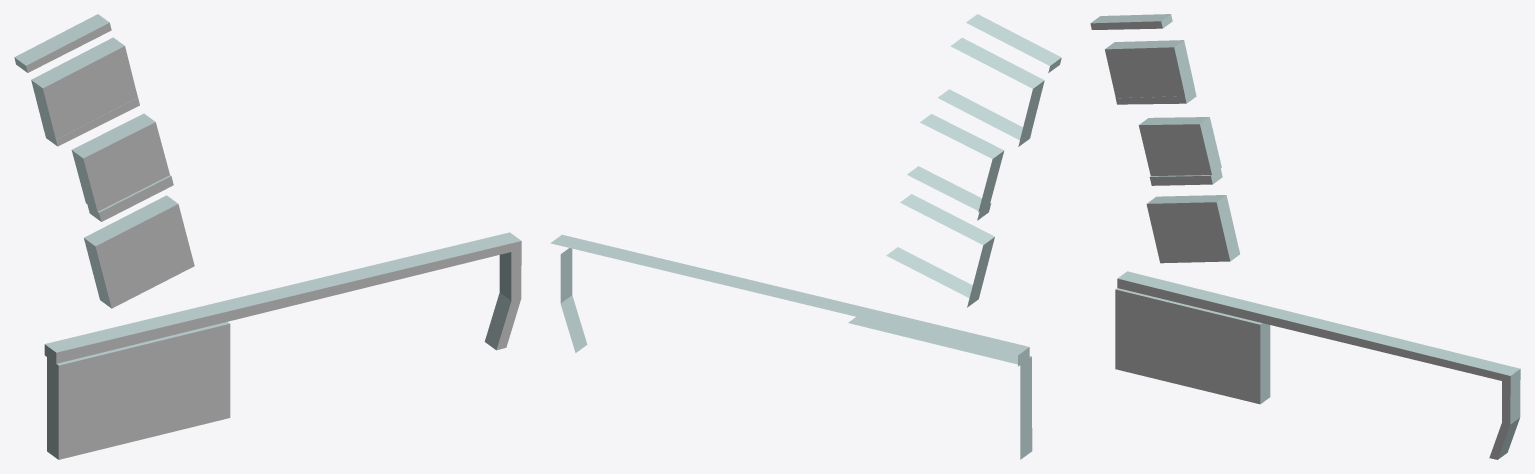
3 renders of one model, left to right at view 1: azimuth 30°, elevation 25°; view 2: azimuth 150°, elevation 25°; view 3: azimuth 330°, elevation 25°, orthographic. The views are drawn at different scales.
Visible parts, largest first — view 1: 0_2_1_2_3_0_1_0; view 2: 0_2_1_2_3_0_1_0; view 3: 0_2_1_2_3_0_1_0.
Part boxes in pixels (bbox=[...]): 0_2_1_2_3_0_1_0: bbox=[14, 14, 521, 459]; 0_2_1_2_3_0_1_0: bbox=[550, 14, 1061, 459]; 0_2_1_2_3_0_1_0: bbox=[1090, 14, 1520, 459].
Size of the model in its own units: 73.07 by 59.56 by 3.6.
